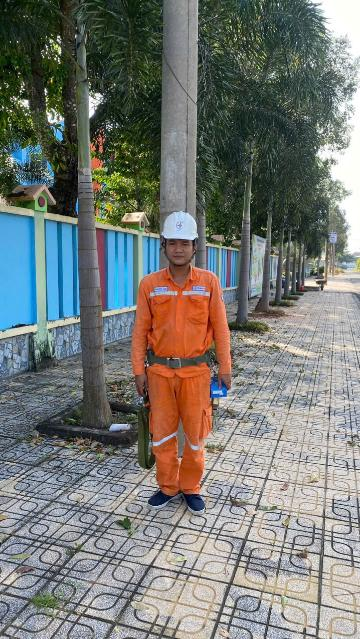harness: (135, 341, 233, 377)
helmet: (146, 211, 204, 242)
shoes: (144, 478, 177, 517), (171, 488, 209, 518)
